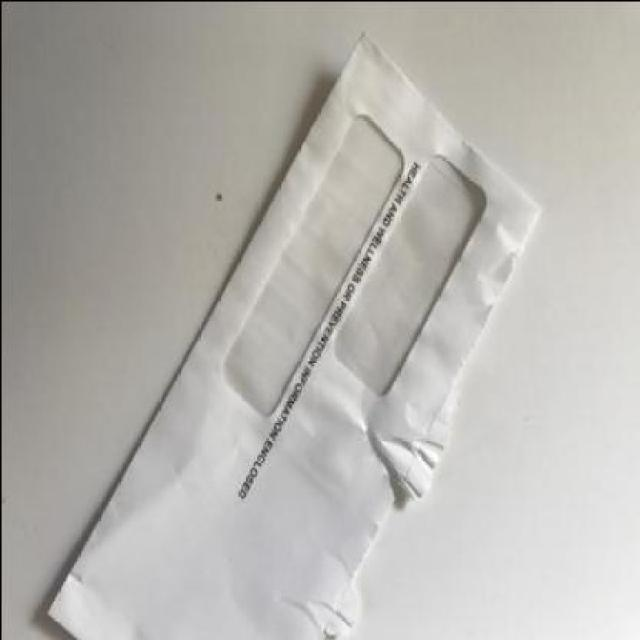PAPER: (46, 39, 543, 638)
